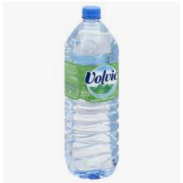Bottle: (63, 5, 120, 180)
